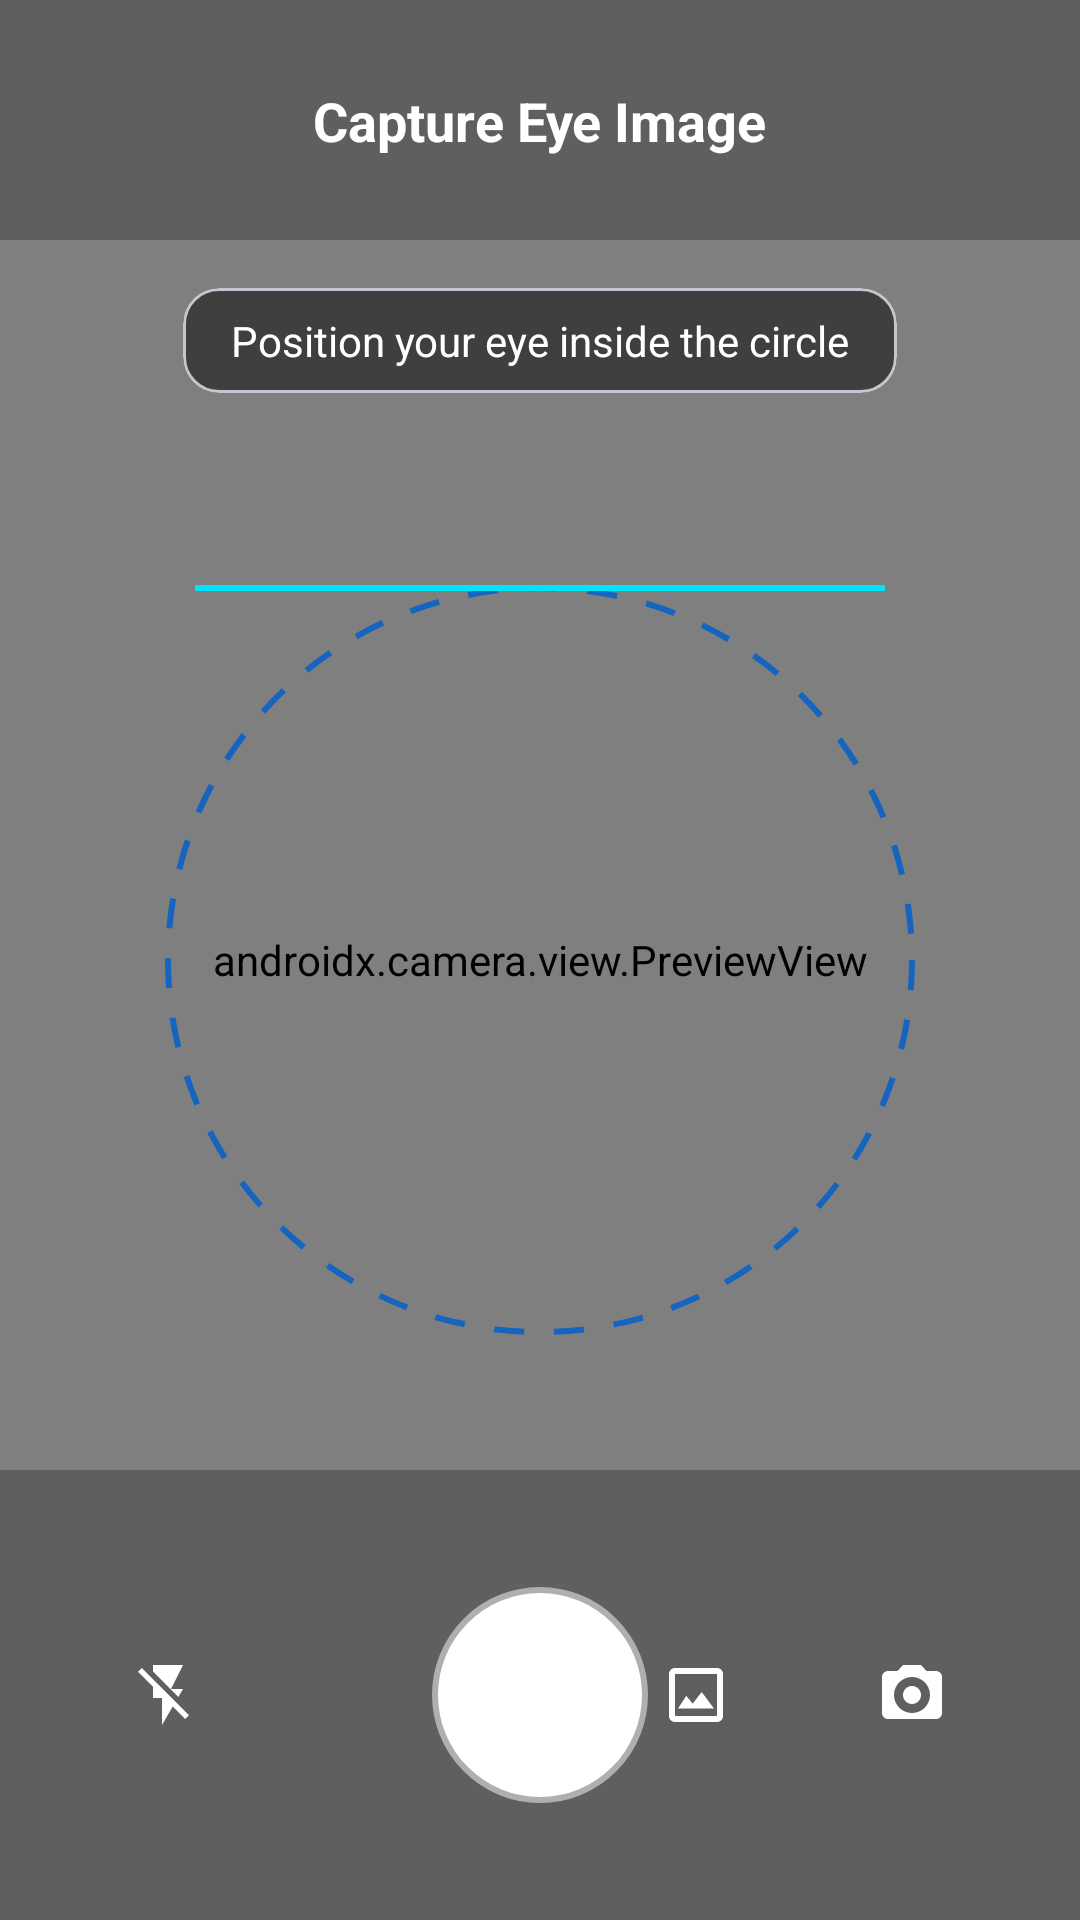

Icon click points for this 1080px×1920px phone screenshot, format (x=x, y=y):
Flash Off: (x=163, y=1695)
Open Camera: (x=912, y=1692)
